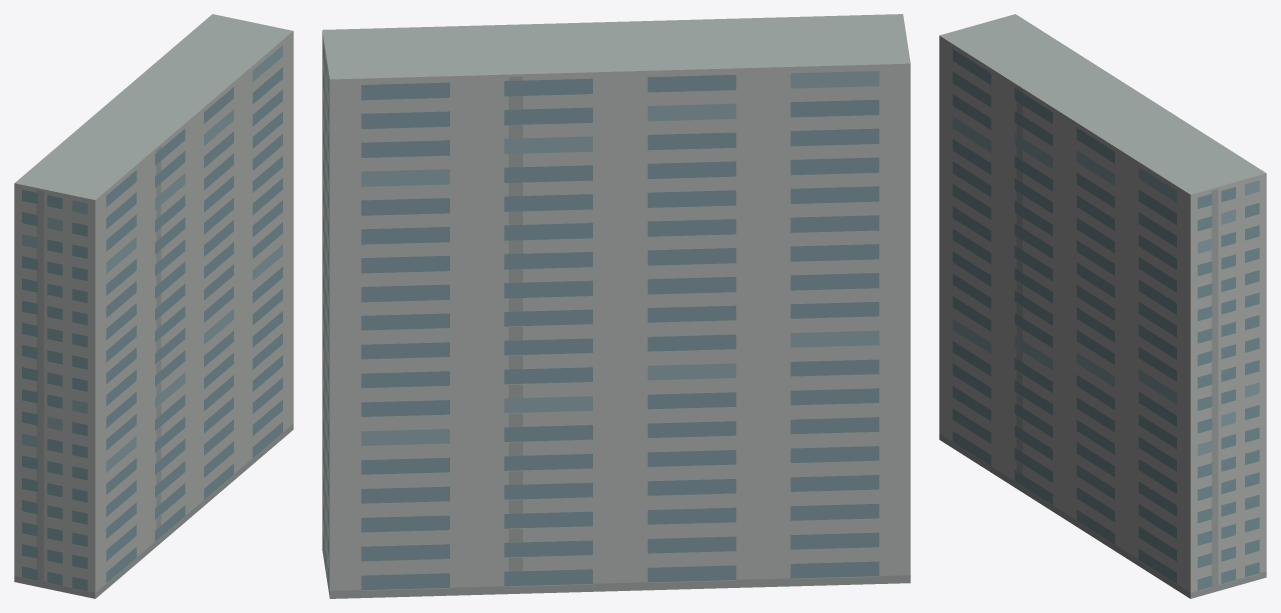
The model's file is residential-06ed3b1e-16ec-4173-8c48-25db906023aa.glb.
The picture shows the model from 3 angles, left to right: view 1: azimuth 30°, elevation 25°; view 2: azimuth 150°, elevation 25°; view 3: azimuth 270°, elevation 25°; orthographic projection. The views are drawn at different scales.
Parts seen in each view (by area): view 1: residential-06ed3b1e-16ec-4173-8c48-25db906023aa.tmp; view 2: residential-06ed3b1e-16ec-4173-8c48-25db906023aa.tmp; view 3: residential-06ed3b1e-16ec-4173-8c48-25db906023aa.tmp.
Boxes of the visible parts, box(x1,y1,x2,y2) form: residential-06ed3b1e-16ec-4173-8c48-25db906023aa.tmp: box(14, 14, 293, 598); residential-06ed3b1e-16ec-4173-8c48-25db906023aa.tmp: box(322, 14, 910, 598); residential-06ed3b1e-16ec-4173-8c48-25db906023aa.tmp: box(939, 14, 1266, 598).
Bounding box in the file's own units: 46.03 × 48 × 35.24.
